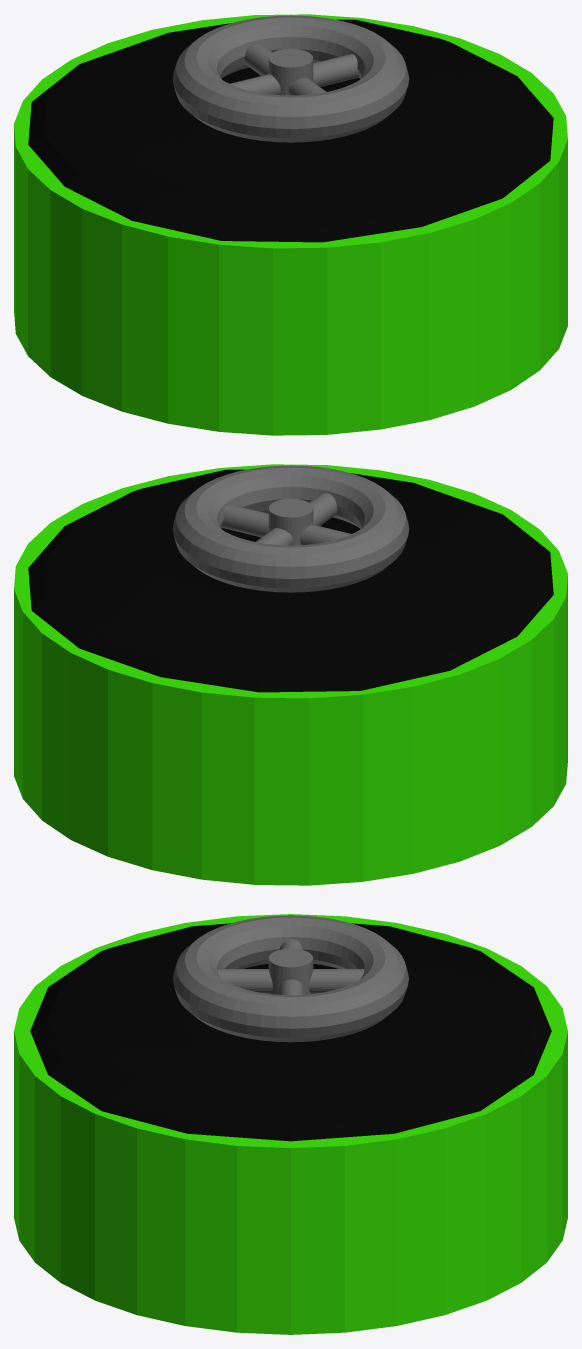
File: Vault.fbx
3 views of the same model, one above another, from view 1: azimuth 30°, elevation 25°; view 2: azimuth 150°, elevation 25°; view 3: azimuth 270°, elevation 25° (orthographic).
Parts seen in each view (by area): view 1: Cylinder.001; view 2: Cylinder.001; view 3: Cylinder.001.
Part boxes in pixels (x1,y1,x2,y2): Cylinder.001: [14, 14, 567, 435]; Cylinder.001: [14, 464, 567, 885]; Cylinder.001: [14, 914, 567, 1334].
Size of the model in its own units: 2 by 1.04 by 2.
